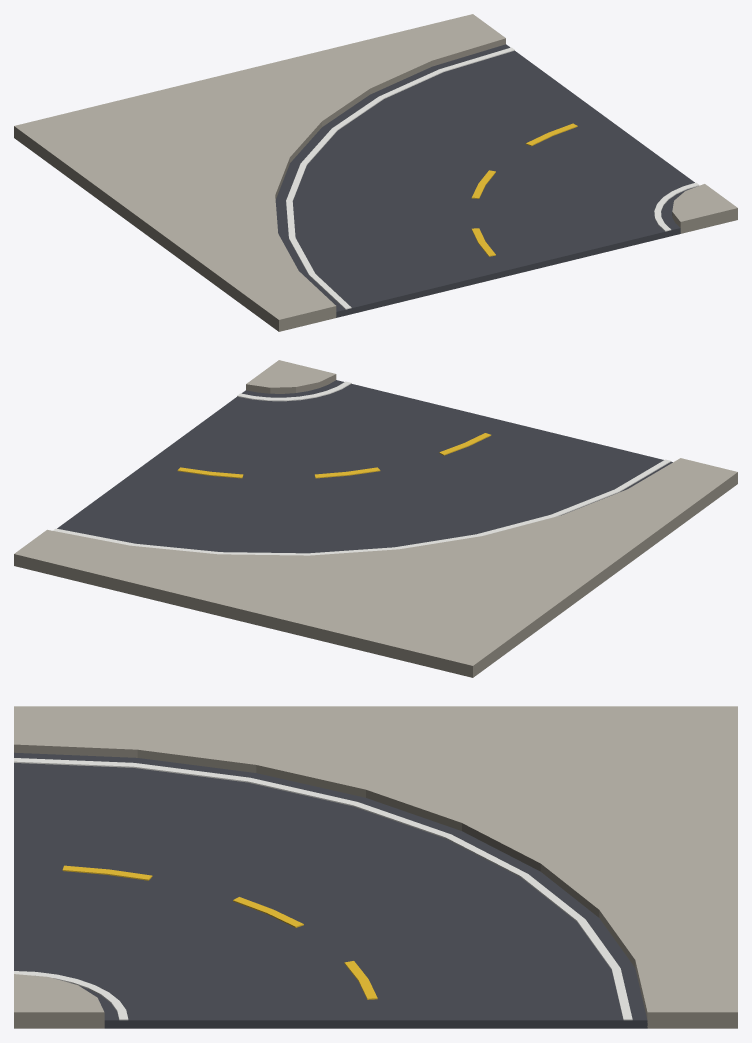
Rendered from Road_Corner.glb.
The picture shows the model from 3 angles, top to bottom: view 1: azimuth 30°, elevation 25°; view 2: azimuth 150°, elevation 25°; view 3: azimuth 270°, elevation 25°; orthographic projection. The views are drawn at different scales.
Parts seen in each view (by area): view 1: Road_Corner_Asphalt, Road_Corner_Sidewalk; view 2: Road_Corner_Asphalt, Road_Corner_Sidewalk; view 3: Road_Corner_Asphalt, Road_Corner_Sidewalk.
Boxes of the visible parts, x1,y1,x2,y2 form: Road_Corner_Asphalt: (275, 44, 699, 317); Road_Corner_Sidewalk: (14, 14, 737, 331); Road_Corner_Asphalt: (53, 380, 672, 555); Road_Corner_Sidewalk: (14, 360, 737, 677); Road_Corner_Asphalt: (14, 752, 647, 1028); Road_Corner_Sidewalk: (14, 706, 737, 1028).
Size of the model in its own units: 11.2 by 0.28 by 11.2.
1 material, 1 textured.
